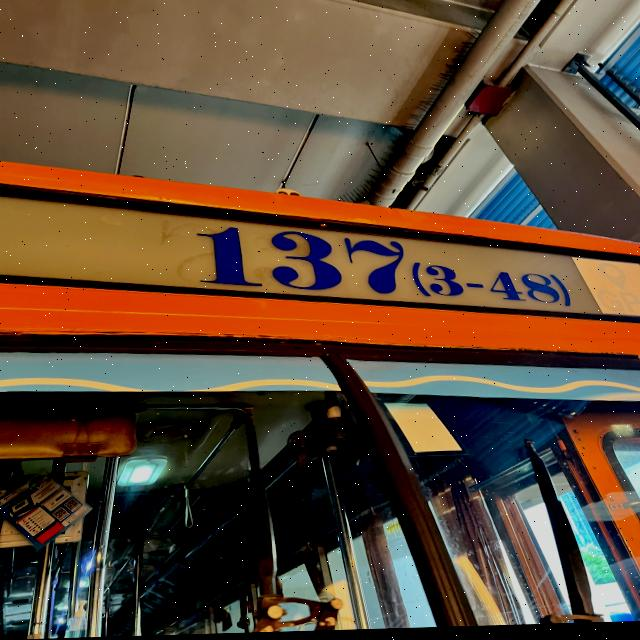BMTA-bus: (0, 140, 640, 640)
Bus-Line-Number: (176, 208, 589, 325)
